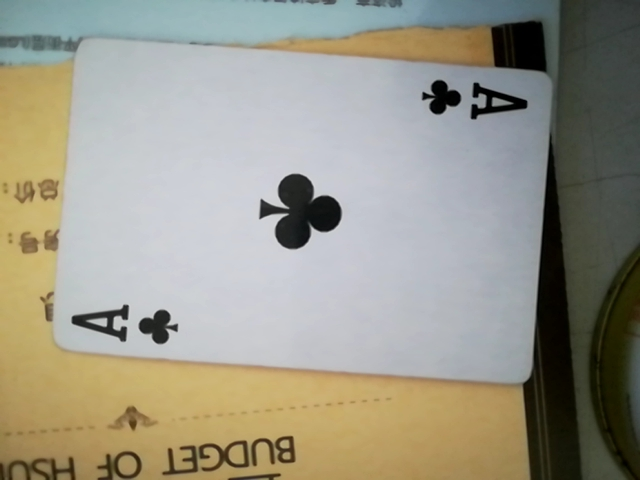mh a: (44, 48, 565, 388)
